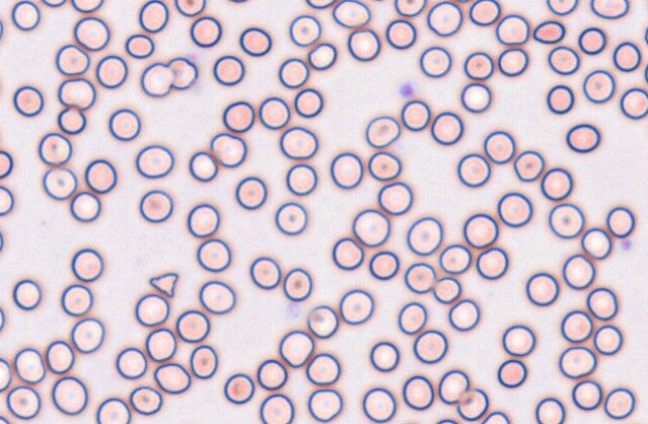RBC: (352, 208, 390, 247), (51, 376, 88, 415), (406, 216, 443, 255), (278, 329, 314, 367), (548, 202, 584, 239), (135, 144, 174, 178), (426, 0, 462, 36), (210, 132, 247, 167), (73, 16, 110, 51), (279, 126, 318, 159), (497, 191, 532, 227), (57, 77, 95, 110), (330, 151, 363, 189), (558, 346, 597, 378), (463, 213, 498, 248), (339, 289, 374, 324), (307, 388, 343, 422), (70, 317, 104, 353), (199, 280, 235, 314), (153, 362, 191, 394), (140, 62, 174, 97), (6, 385, 41, 419), (362, 387, 396, 422), (457, 152, 491, 187), (377, 181, 412, 215), (196, 238, 231, 272), (562, 253, 595, 289), (413, 329, 447, 363), (139, 189, 173, 223), (525, 272, 559, 306), (186, 203, 220, 237), (134, 293, 169, 326), (305, 352, 340, 385), (42, 167, 77, 200), (175, 309, 210, 342), (365, 115, 400, 148), (13, 347, 45, 383), (38, 132, 72, 165), (84, 159, 117, 193), (430, 111, 463, 145), (274, 201, 307, 235), (582, 69, 615, 103), (145, 327, 177, 362), (437, 369, 469, 404), (402, 375, 434, 410), (331, 237, 364, 270), (475, 246, 508, 279), (347, 28, 380, 61), (540, 167, 573, 200), (108, 108, 141, 141), (483, 130, 515, 164), (71, 248, 103, 282), (55, 44, 90, 75), (332, 0, 370, 28), (456, 387, 488, 420), (560, 310, 593, 342), (448, 298, 480, 331), (95, 55, 127, 88), (586, 287, 618, 320), (502, 324, 535, 356), (258, 96, 290, 129), (235, 176, 267, 209), (249, 256, 281, 289), (495, 14, 529, 45), (259, 393, 294, 423), (565, 123, 600, 153), (115, 347, 147, 379), (603, 387, 635, 419), (61, 284, 93, 316), (289, 14, 321, 46), (285, 163, 317, 195), (222, 100, 254, 132), (307, 305, 338, 338), (438, 243, 471, 274), (45, 340, 75, 374), (367, 151, 401, 181), (189, 344, 218, 379), (256, 358, 287, 390), (223, 372, 254, 404), (581, 227, 612, 259), (404, 262, 436, 293), (212, 54, 244, 85), (513, 150, 544, 182), (400, 99, 431, 131), (419, 46, 451, 77), (397, 301, 427, 334), (129, 385, 162, 415), (547, 45, 580, 75), (283, 267, 312, 301), (70, 191, 101, 222), (278, 57, 309, 88), (190, 16, 221, 47), (460, 82, 491, 113), (167, 57, 197, 89), (138, 0, 168, 32), (239, 26, 271, 56), (13, 85, 43, 117), (188, 151, 218, 182), (571, 380, 602, 410), (369, 341, 399, 372), (368, 250, 399, 280), (385, 19, 416, 49), (606, 206, 635, 238), (96, 397, 131, 423), (593, 324, 622, 355), (12, 279, 41, 310), (497, 47, 528, 76), (612, 41, 641, 72), (619, 87, 647, 119), (497, 359, 527, 388), (11, 0, 40, 30), (293, 88, 323, 117), (463, 51, 493, 80), (468, 0, 501, 26), (307, 42, 337, 70), (546, 84, 574, 114), (57, 106, 86, 134), (578, 26, 606, 55), (532, 20, 565, 44), (432, 276, 461, 303), (535, 397, 565, 423), (590, 0, 629, 19), (125, 33, 154, 58), (394, 0, 426, 17), (174, 0, 205, 16), (546, 0, 578, 15), (0, 357, 12, 392), (0, 185, 14, 215), (71, 0, 103, 13), (480, 410, 510, 423), (0, 150, 13, 178), (305, 0, 335, 9), (41, 0, 66, 7), (0, 306, 5, 332), (435, 418, 458, 423), (0, 18, 4, 42), (0, 228, 4, 252), (644, 62, 648, 84), (644, 24, 648, 45), (0, 415, 10, 423), (0, 76, 3, 101), (227, 0, 249, 3), (0, 128, 3, 149), (453, 0, 471, 3)
Schistocyte: (148, 272, 179, 299)
